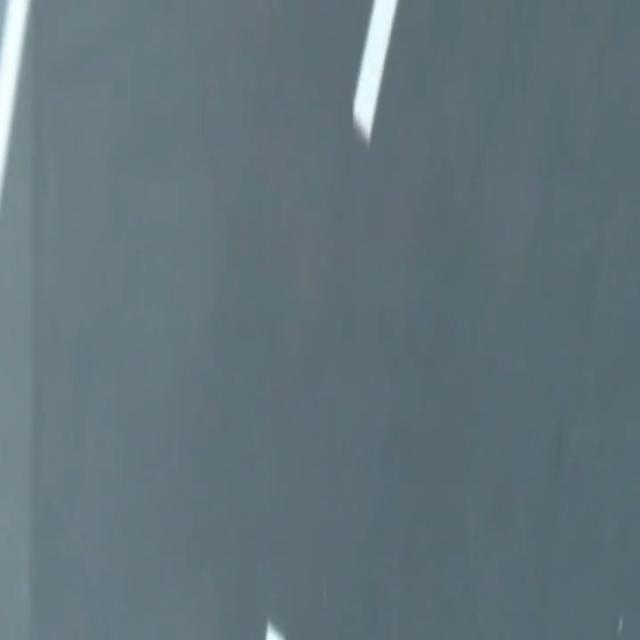center: (353, 0, 397, 145), (265, 618, 285, 639)
left: (0, 0, 29, 200)
